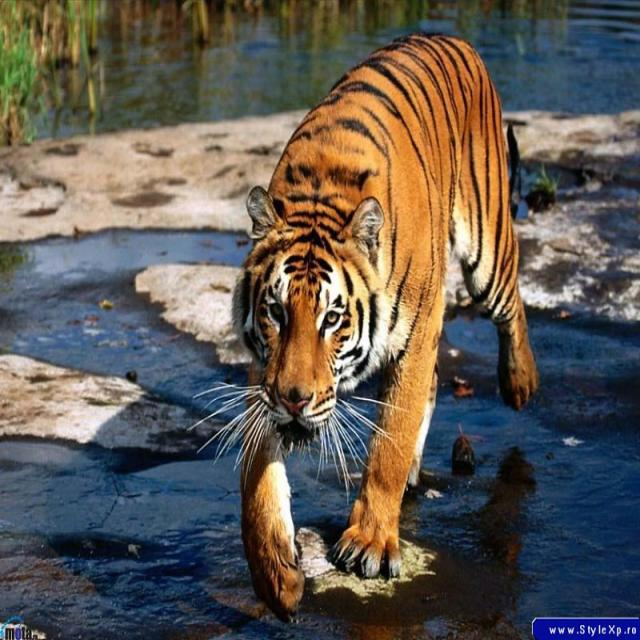Tiger: (234, 33, 538, 623)
